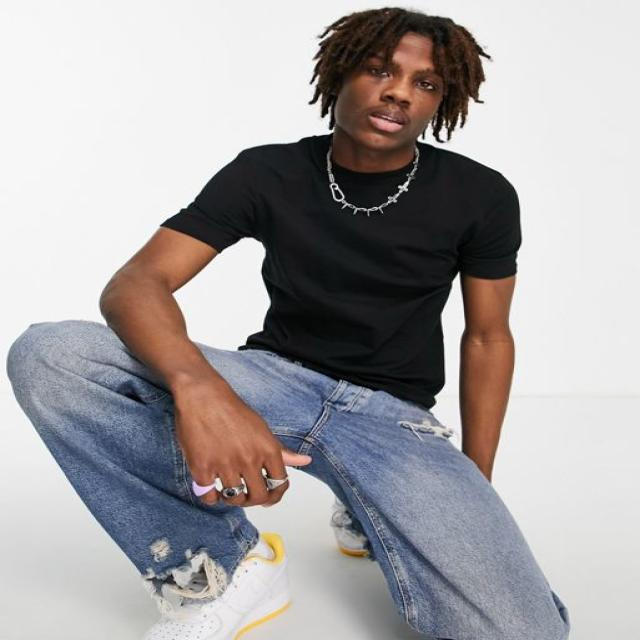tshirt: (156, 130, 525, 408)
